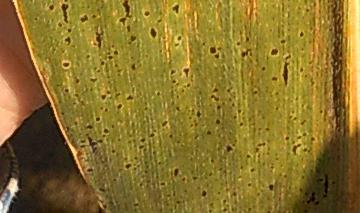tarspot: (327, 1, 347, 139), (78, 131, 98, 154), (116, 1, 133, 26), (281, 60, 290, 87), (305, 190, 320, 206), (61, 3, 71, 24), (94, 30, 104, 50), (322, 172, 329, 199), (240, 47, 254, 59), (126, 33, 138, 47), (268, 47, 280, 59), (291, 142, 302, 155), (170, 2, 181, 14), (149, 26, 158, 39), (98, 197, 107, 210), (61, 58, 71, 69), (79, 14, 90, 24), (297, 30, 307, 40), (181, 67, 191, 77), (153, 16, 163, 26), (209, 94, 220, 103), (267, 182, 276, 192), (224, 143, 233, 153), (208, 45, 217, 55), (64, 35, 72, 46), (278, 37, 287, 46), (194, 109, 202, 119), (256, 140, 266, 148), (173, 166, 180, 177), (130, 61, 137, 72), (200, 189, 209, 197), (46, 3, 55, 11), (315, 175, 323, 184), (112, 49, 121, 57), (301, 131, 309, 140), (89, 76, 98, 84), (97, 185, 106, 193), (93, 65, 101, 74), (125, 24, 132, 34), (215, 103, 222, 113), (131, 201, 141, 208), (175, 34, 183, 42), (283, 134, 291, 142), (214, 118, 222, 126), (124, 162, 132, 170), (115, 102, 123, 110), (211, 87, 219, 95), (99, 93, 107, 101), (225, 85, 233, 93), (111, 176, 119, 184), (132, 154, 140, 162), (109, 42, 117, 50), (143, 9, 150, 18), (168, 68, 177, 75), (125, 94, 134, 101), (95, 138, 104, 145), (244, 35, 251, 44), (231, 189, 238, 198), (73, 76, 80, 85), (207, 199, 214, 208), (161, 119, 167, 129), (180, 173, 186, 183), (260, 64, 267, 72), (284, 53, 291, 61), (86, 167, 94, 174), (85, 123, 93, 130), (174, 104, 181, 112), (200, 40, 207, 48), (55, 21, 63, 28), (249, 166, 256, 174), (112, 61, 119, 69), (167, 132, 174, 140), (148, 132, 155, 140), (159, 180, 166, 188), (220, 206, 228, 213), (150, 149, 158, 156), (330, 179, 337, 187), (270, 75, 279, 81), (62, 87, 71, 93), (298, 65, 304, 74), (309, 135, 315, 144), (155, 89, 161, 98), (136, 144, 145, 150), (137, 179, 143, 188), (94, 115, 101, 122), (107, 54, 114, 61), (103, 127, 110, 134), (252, 88, 259, 95), (235, 39, 242, 46), (58, 110, 65, 117), (175, 199, 182, 206), (115, 136, 122, 143), (156, 159, 163, 166), (297, 186, 304, 193), (295, 134, 301, 142), (170, 78, 178, 84), (193, 132, 199, 140), (236, 107, 242, 115), (274, 105, 280, 113), (221, 198, 227, 206), (301, 208, 310, 213), (66, 27, 72, 34), (213, 53, 220, 59), (205, 129, 212, 135), (32, 16, 39, 22), (238, 121, 244, 128), (139, 137, 146, 143), (192, 174, 198, 181), (209, 156, 215, 163), (245, 152, 251, 159), (263, 126, 270, 132), (246, 181, 252, 188), (73, 119, 79, 126), (318, 107, 323, 115), (193, 120, 198, 128), (79, 138, 85, 144), (188, 122, 194, 128), (273, 90, 279, 96), (227, 94, 231, 103), (207, 207, 213, 213), (100, 59, 105, 66), (186, 81, 191, 88), (232, 114, 239, 119), (264, 209, 272, 213), (85, 53, 90, 59), (91, 14, 96, 20), (103, 107, 108, 113), (110, 148, 116, 153), (187, 115, 192, 120), (231, 102, 234, 108), (62, 1, 69, 3)
